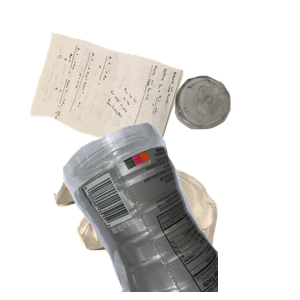glass: (172, 73, 300, 195)
paper: (27, 30, 203, 178)
plastic: (60, 120, 300, 300)
trash: (51, 155, 261, 300)
